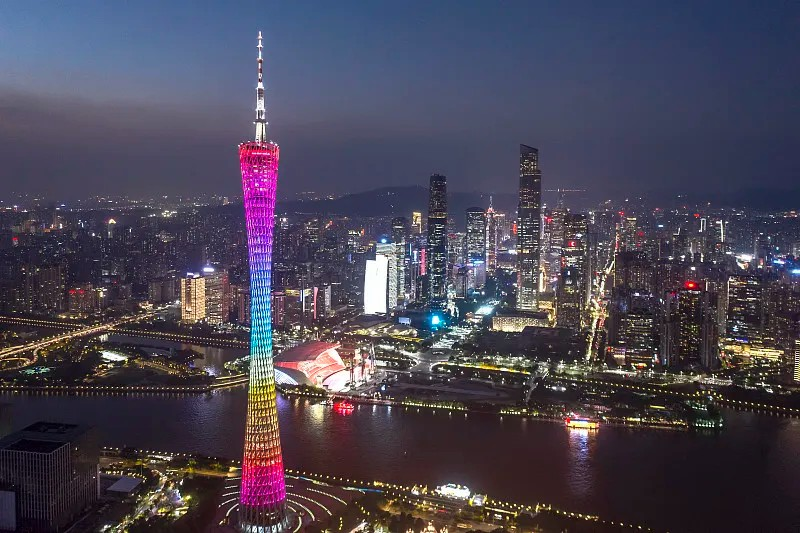Canton: (235, 27, 286, 531)
